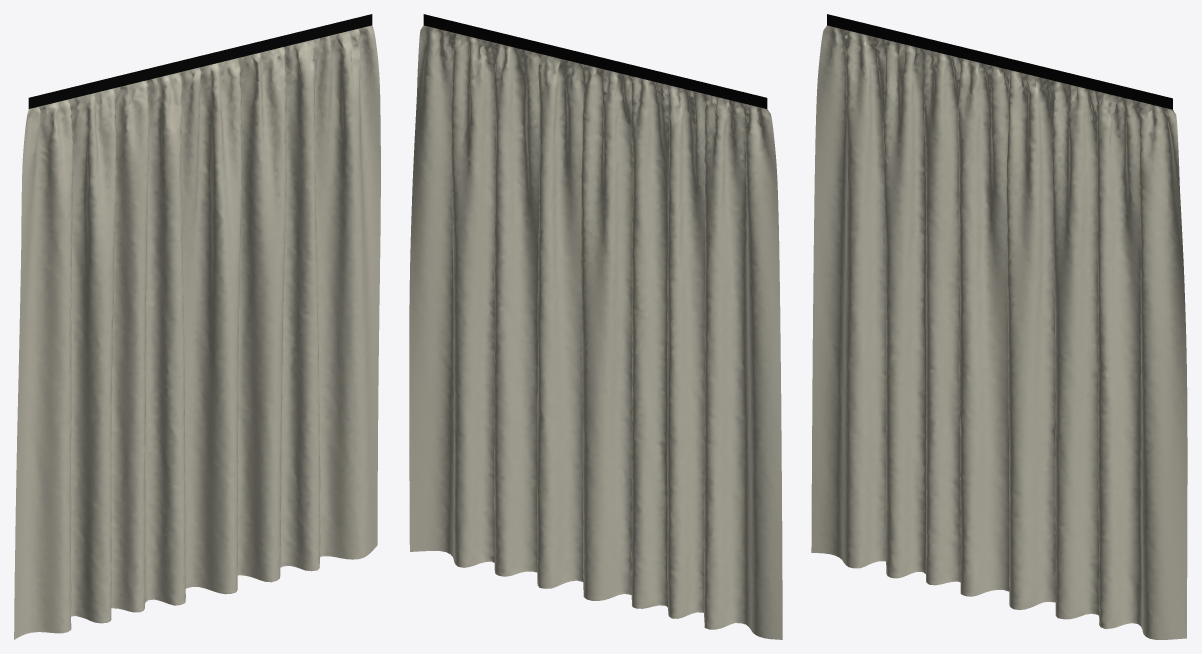
The model's file is curtain-5.glb.
The picture shows the model from 3 angles, left to right: view 1: azimuth 30°, elevation 25°; view 2: azimuth 150°, elevation 25°; view 3: azimuth 330°, elevation 25°; orthographic projection.
Visible parts, largest first — view 1: Cloth_1; view 2: Cloth_1; view 3: Cloth_1.
Part boxes in pixels (x1,y1,x2,y2): Cloth_1: [14, 14, 380, 639]; Cloth_1: [409, 14, 782, 639]; Cloth_1: [811, 14, 1187, 639].
Size of the model in its own units: 1.36 by 1.9 by 0.1103.
2 materials, 1 textured.
